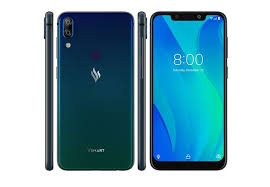vsmart: (145, 6, 231, 170), (51, 8, 134, 170)
